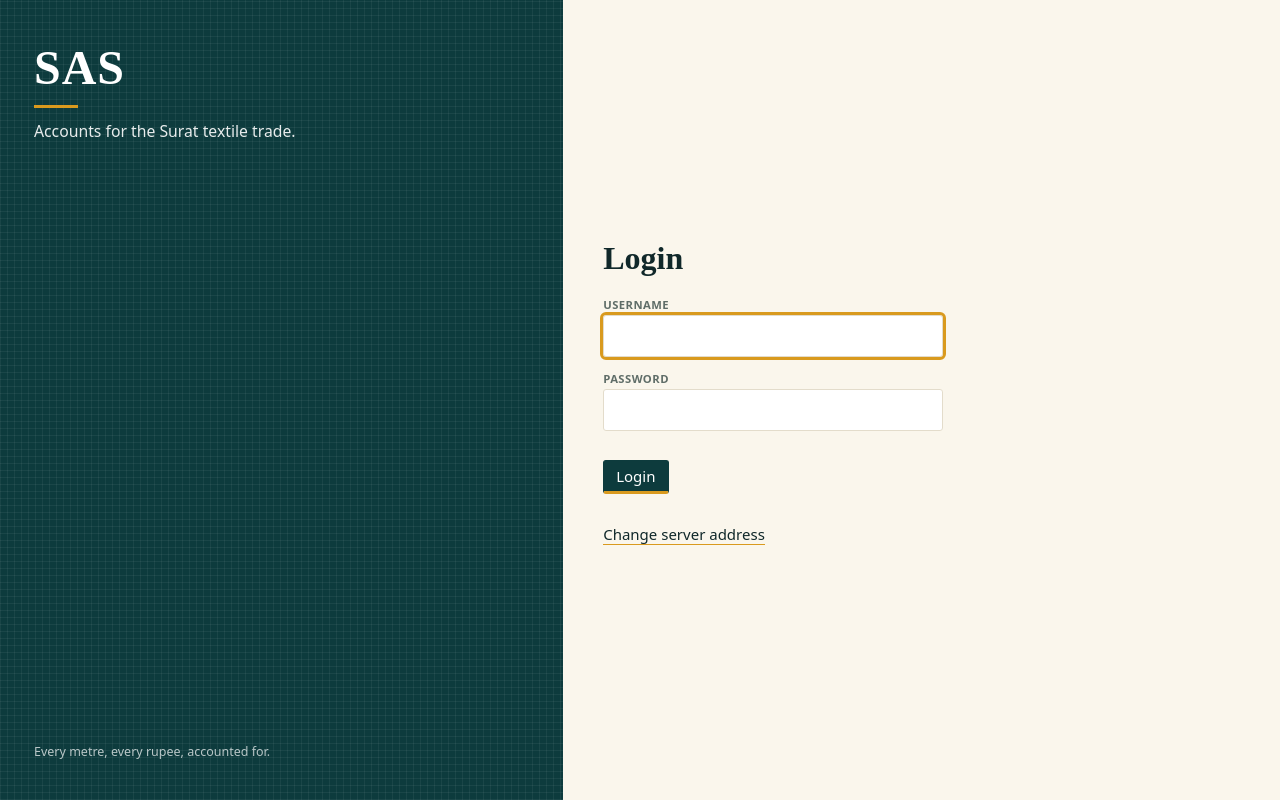
Test: App start-up and login › shows the server's message for a wrong password and stays on the login screen
The image size is (1280, 800).
Type "boss" into the field labelled "Username" at {"x": 773, "y": 336}, box [603,315,943,357]
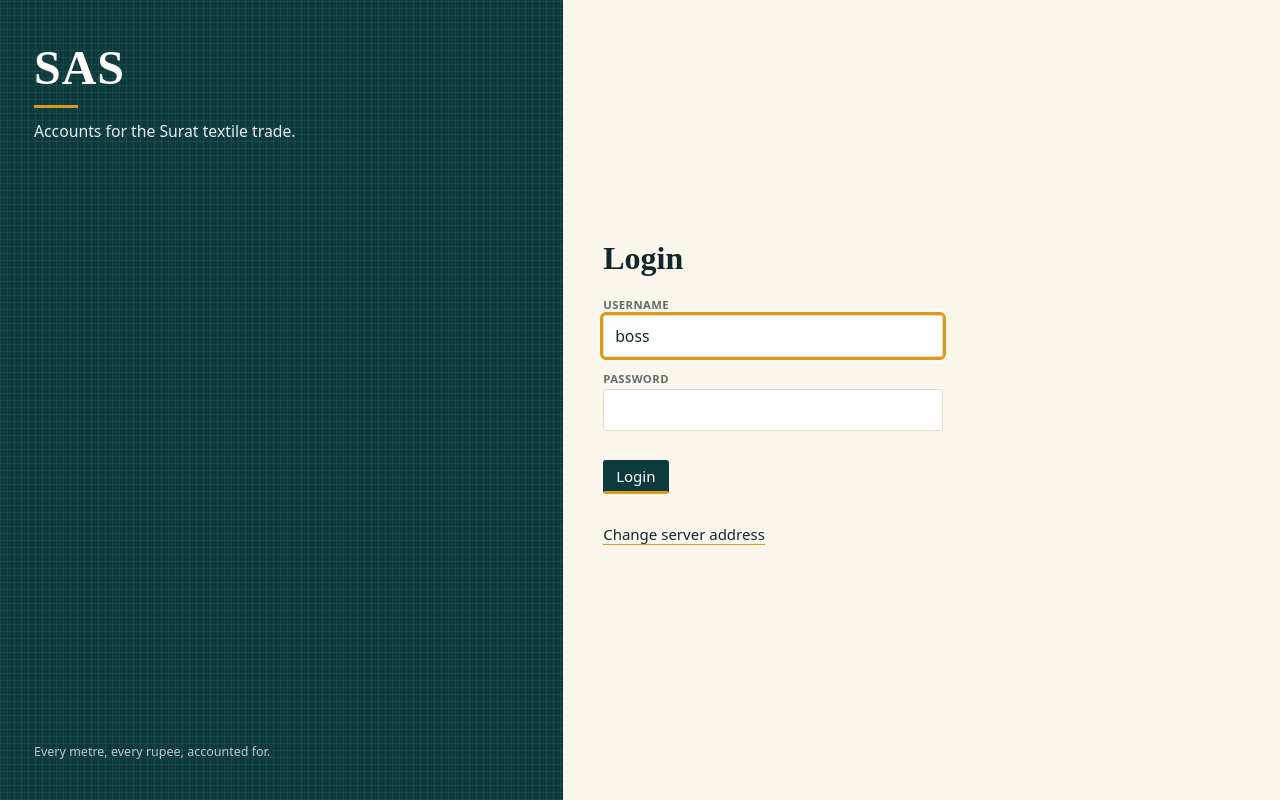
Type "wrong" into the password field labelled "Password" at {"x": 773, "y": 410}, box [603,389,943,431]
Then press Enter
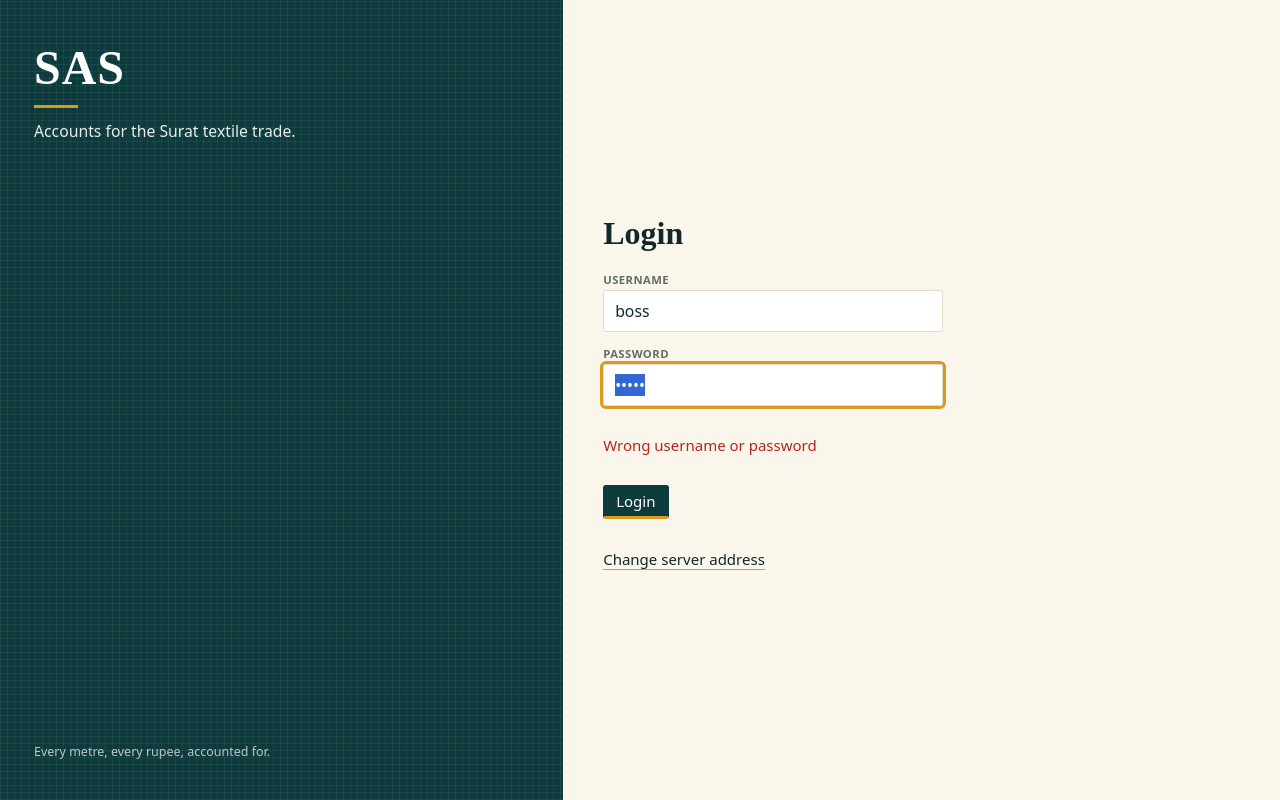
Expected: the button "Login" is shown, [603,485,668,519]
Expected: the message reads "Wrong username or password", [603,435,817,455]
